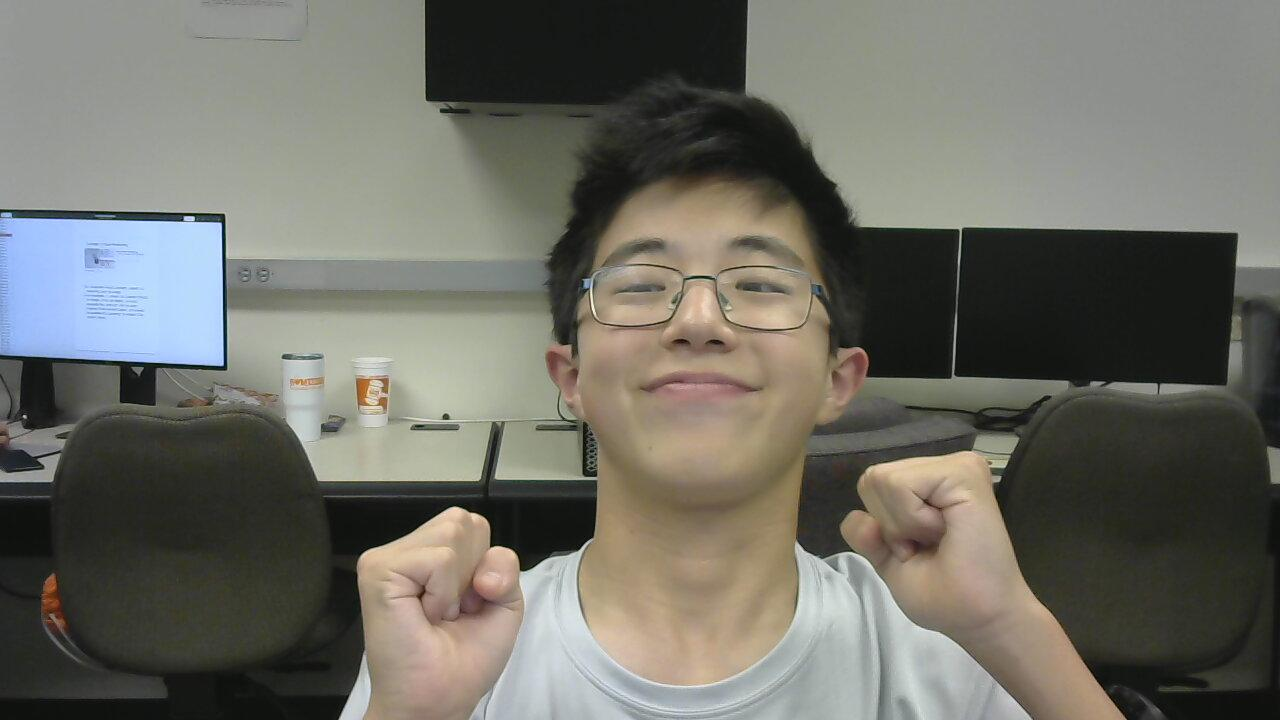fist: (338, 509, 549, 720), (843, 447, 1042, 644)
